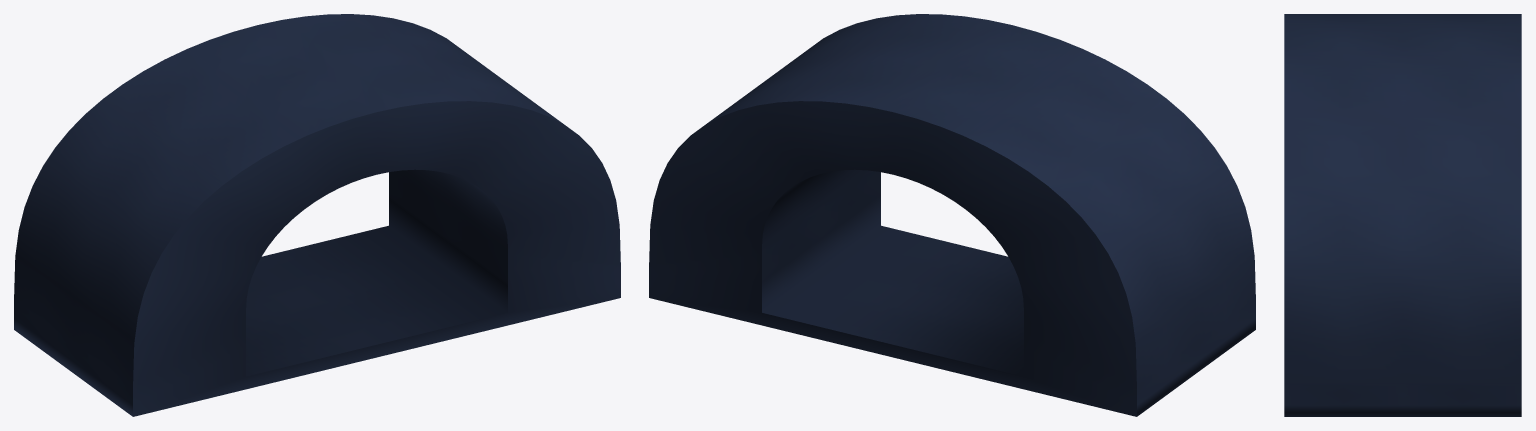
The model's file is straight_12m_terrain_lod1.glb.
The picture shows the model from 3 angles, left to right: view 1: azimuth 30°, elevation 25°; view 2: azimuth 150°, elevation 25°; view 3: azimuth 270°, elevation 25°; orthographic projection.
Parts seen in each view (by area): view 1: TerrainRoof.005; view 2: TerrainRoof.005; view 3: TerrainRoof.005.
Boxes of the visible parts, box(x1,y1,x2,y2) form: TerrainRoof.005: box(14, 14, 620, 416); TerrainRoof.005: box(649, 14, 1255, 416); TerrainRoof.005: box(1284, 14, 1521, 416).
Bounding box in the file's own units: 28.4 × 13.65 × 12.
